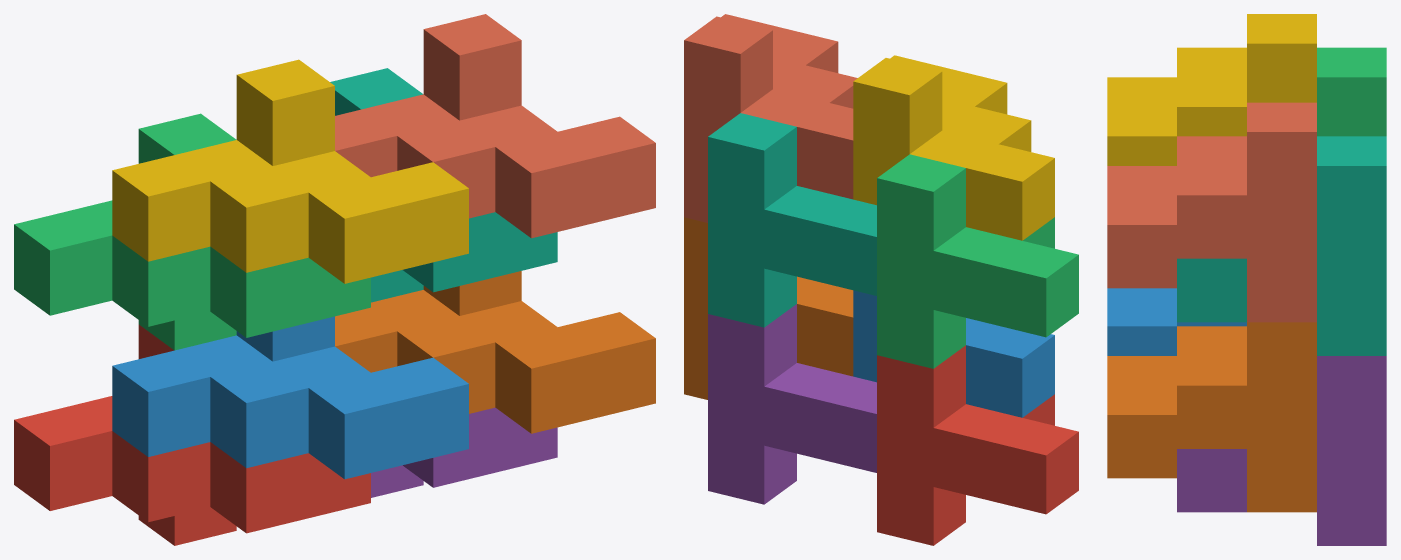
The model's file is tiling.obj.
The picture shows the model from 3 angles, left to right: view 1: azimuth 30°, elevation 25°; view 2: azimuth 150°, elevation 25°; view 3: azimuth 270°, elevation 25°; orthographic projection. The views are drawn at different scales.
Visible parts, largest first — view 1: copy_1_domain_4, copy_1_domain_2, copy_1_domain_8, copy_1_domain_6, copy_1_domain_3, copy_1_domain_1, copy_1_domain_7, copy_1_domain_5; view 2: copy_1_domain_3, copy_1_domain_1, copy_1_domain_7, copy_1_domain_4, copy_1_domain_5, copy_1_domain_8, copy_1_domain_2, copy_1_domain_6; view 3: copy_1_domain_8, copy_1_domain_6, copy_1_domain_7, copy_1_domain_4, copy_1_domain_5, copy_1_domain_3, copy_1_domain_2.
Part boxes in pixels (x1,y1,x2,y2): copy_1_domain_4: (112, 59, 468, 283); copy_1_domain_2: (112, 316, 468, 479); copy_1_domain_8: (335, 14, 655, 238); copy_1_domain_6: (335, 271, 655, 433); copy_1_domain_3: (14, 113, 370, 350); copy_1_domain_1: (14, 324, 370, 545); copy_1_domain_7: (330, 68, 557, 302); copy_1_domain_5: (371, 407, 557, 497); copy_1_domain_3: (877, 154, 1078, 368); copy_1_domain_1: (877, 345, 1078, 545); copy_1_domain_7: (708, 113, 876, 327); copy_1_domain_4: (853, 55, 1054, 240); copy_1_domain_5: (708, 304, 876, 504); copy_1_domain_8: (684, 14, 857, 222); copy_1_domain_2: (853, 290, 1054, 417); copy_1_domain_6: (684, 217, 853, 399); copy_1_domain_8: (1107, 102, 1316, 322); copy_1_domain_6: (1107, 322, 1316, 512); copy_1_domain_7: (1177, 136, 1386, 355); copy_1_domain_4: (1107, 14, 1316, 165); copy_1_domain_5: (1177, 356, 1386, 545); copy_1_domain_3: (1317, 47, 1386, 136); copy_1_domain_2: (1107, 288, 1246, 355).
Size of the model in its own units: 8 by 7 by 4.
